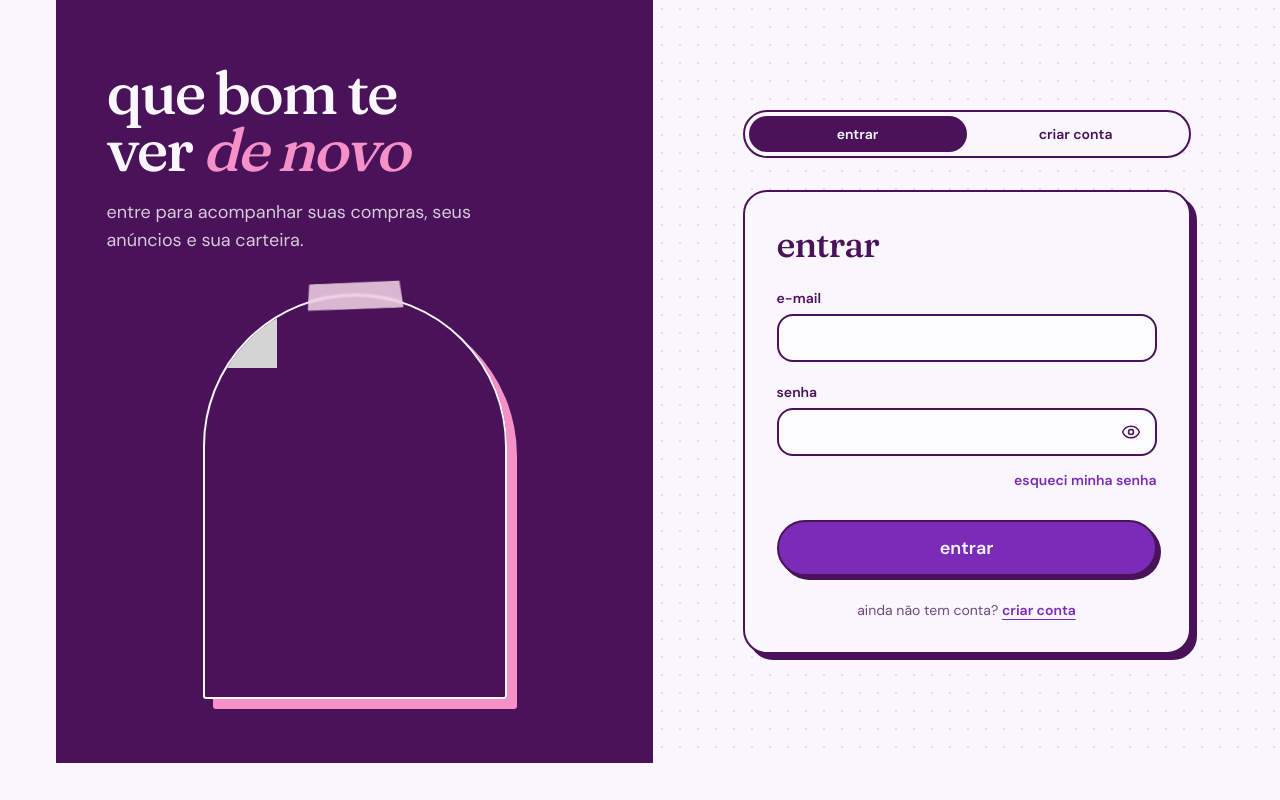
Test: PaginaConta › alterna entre entrar e criar conta sem recarregar, mantendo o e-mail
Expected: the heading "entrar" is shown, [776, 222, 879, 266]
Expected: the field labelled "nome completo" is not shown
In the field labelled "e-mail": point(966, 338) [776, 314, 1156, 362], type "ana@exemplo.com"
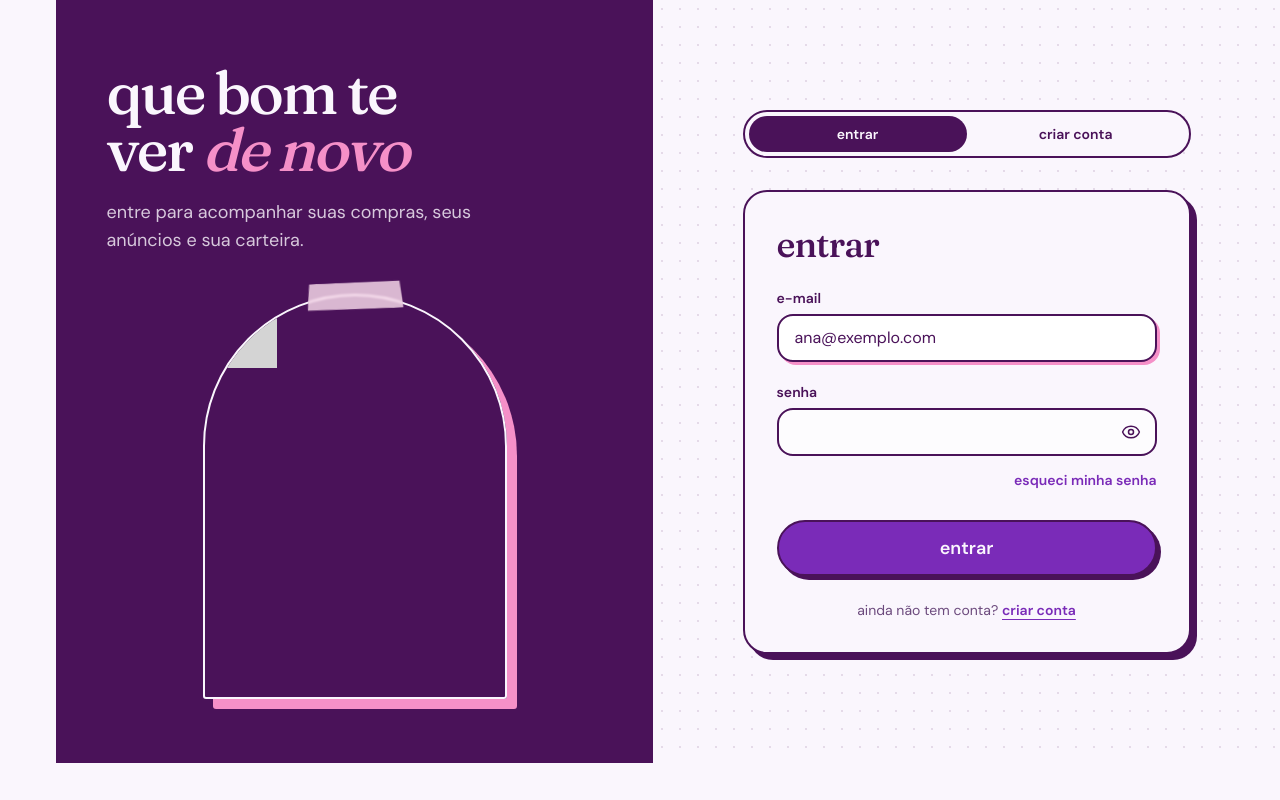
Click the tab "criar conta": point(1076, 134) [966, 116, 1184, 152]
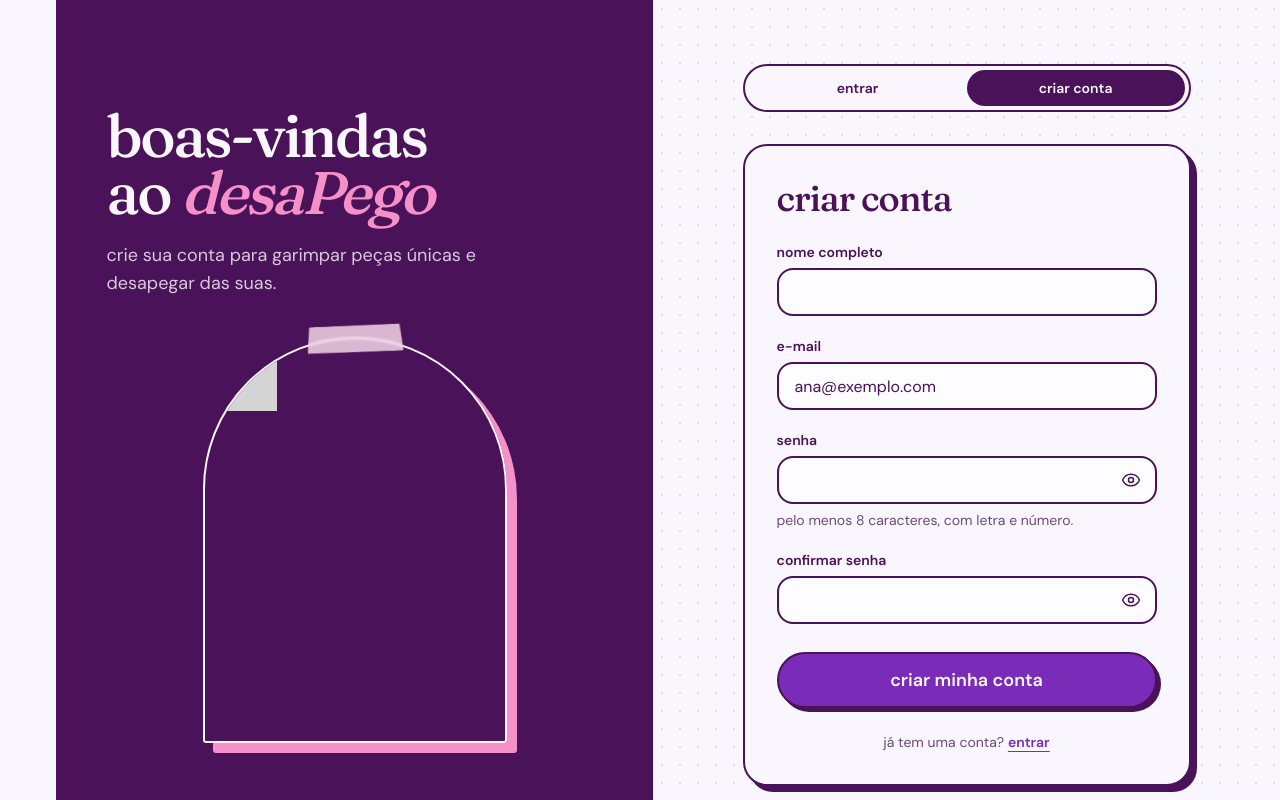
Result: the heading "criar conta" is shown at [776, 176, 952, 220]
Result: the field labelled "nome completo" is shown at [776, 268, 1156, 316]
Result: the password field labelled "confirmar senha" is shown at [776, 576, 1156, 624]
